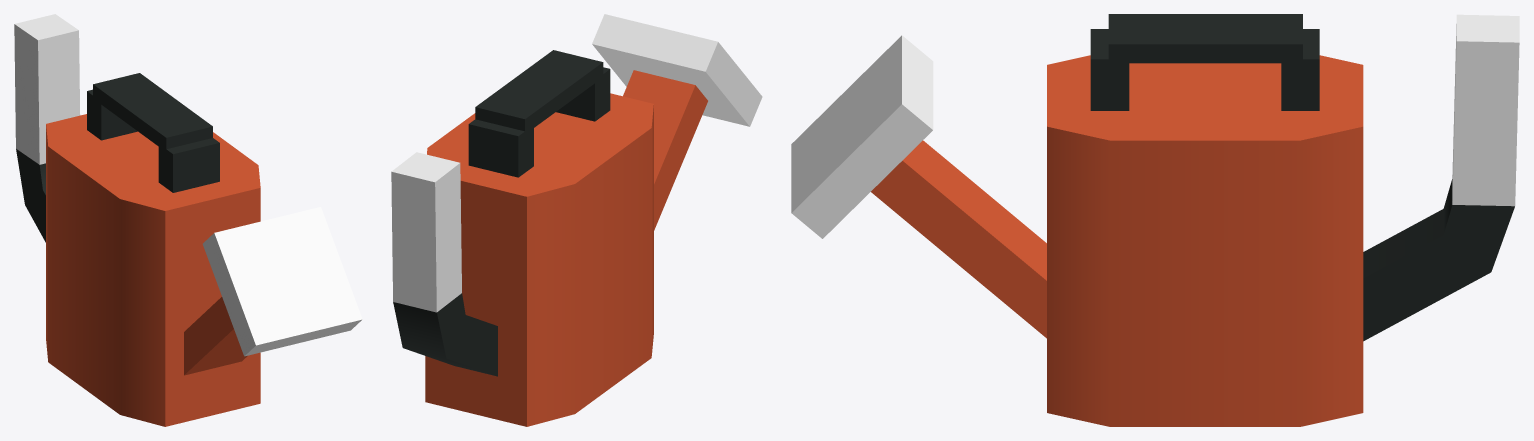
The model's file is waterCan_EXTREME.fbx.
The picture shows the model from 3 angles, left to right: view 1: azimuth 30°, elevation 25°; view 2: azimuth 150°, elevation 25°; view 3: azimuth 270°, elevation 25°; orthographic projection. The views are drawn at different scales.
Visible parts, largest first — view 1: waterCan_Model; view 2: waterCan_Model; view 3: waterCan_Model.
Part boxes in pixels (bbox=[...]): waterCan_Model: bbox=[14, 14, 362, 426]; waterCan_Model: bbox=[391, 14, 762, 426]; waterCan_Model: bbox=[791, 14, 1519, 426].
Size of the model in its own units: 30.21 by 55.65 by 104.
Materials: 1 (1 with a texture image).
